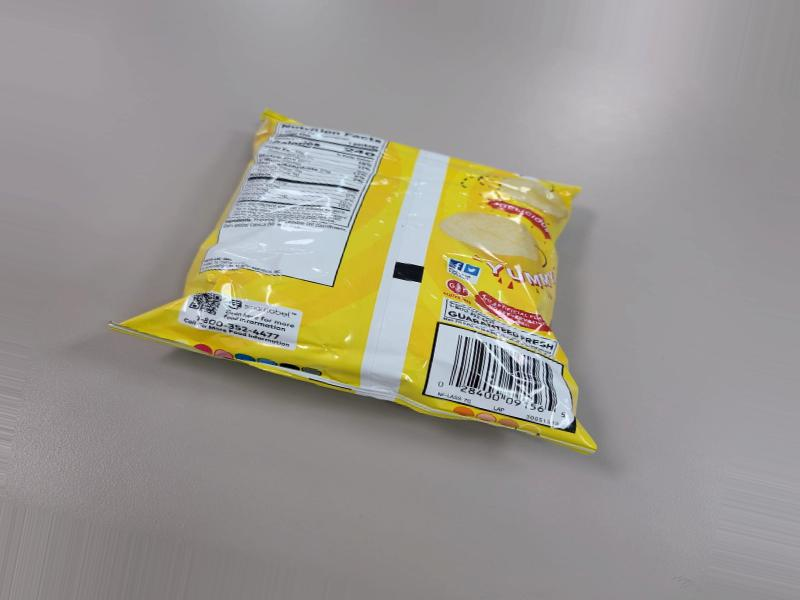lays: (117, 142, 531, 398)
